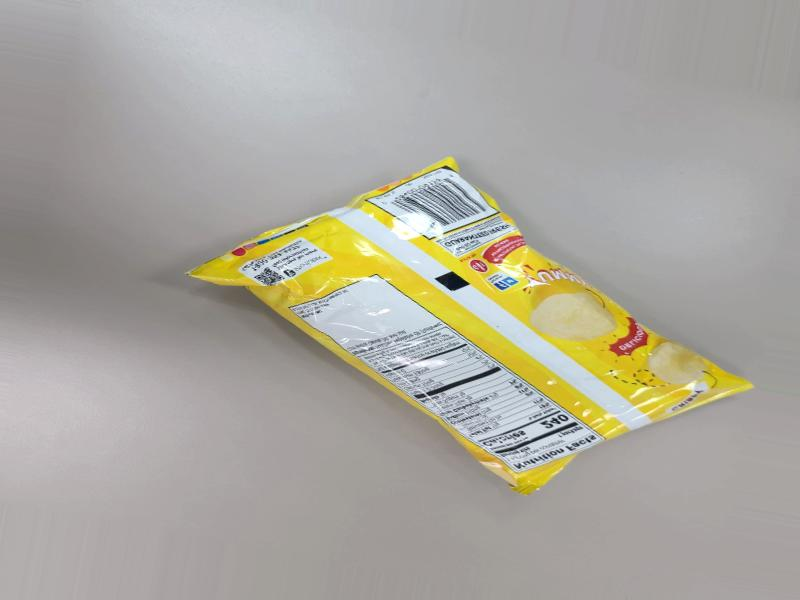lays: (194, 196, 701, 571)
